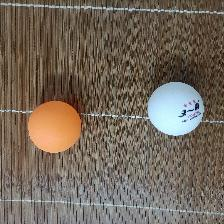WhiteBall: (147, 81, 204, 135)
YellowBall: (26, 100, 81, 153)
